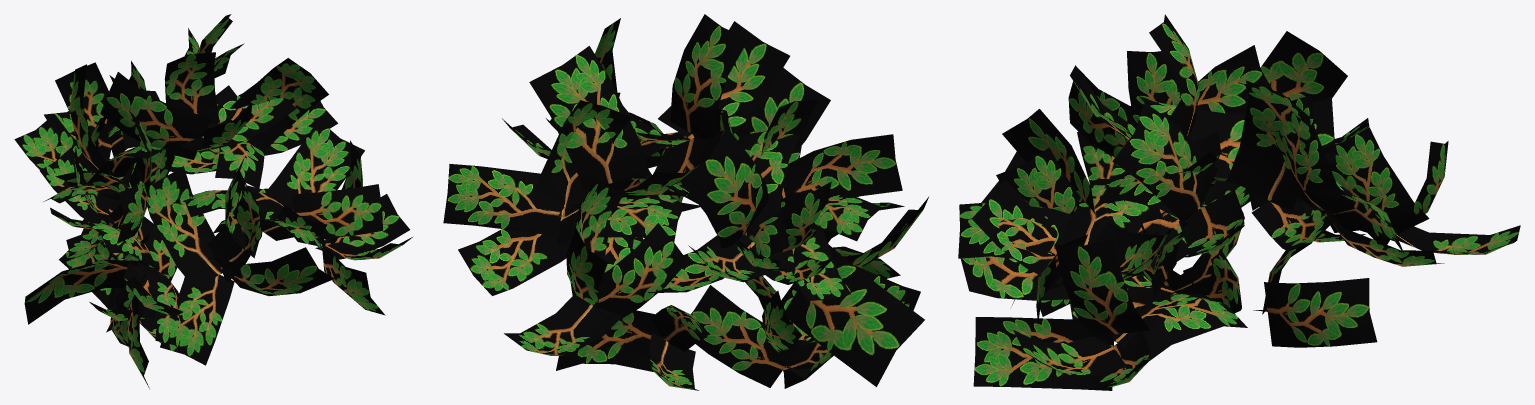
File: FolhaArvore01.fbx
3 views of the same model, side by side, from view 1: azimuth 30°, elevation 25°; view 2: azimuth 150°, elevation 25°; view 3: azimuth 270°, elevation 25° (orthographic). The views are drawn at different scales.
Parts seen in each view (by area): view 1: FolhaArvore.01; view 2: FolhaArvore.01; view 3: FolhaArvore.01.
Part boxes in pixels (x1,y1,x2,y2): FolhaArvore.01: (14, 14, 413, 388); FolhaArvore.01: (443, 14, 928, 390); FolhaArvore.01: (958, 14, 1520, 390).
Size of the model in its own units: 703 by 528 by 769.
